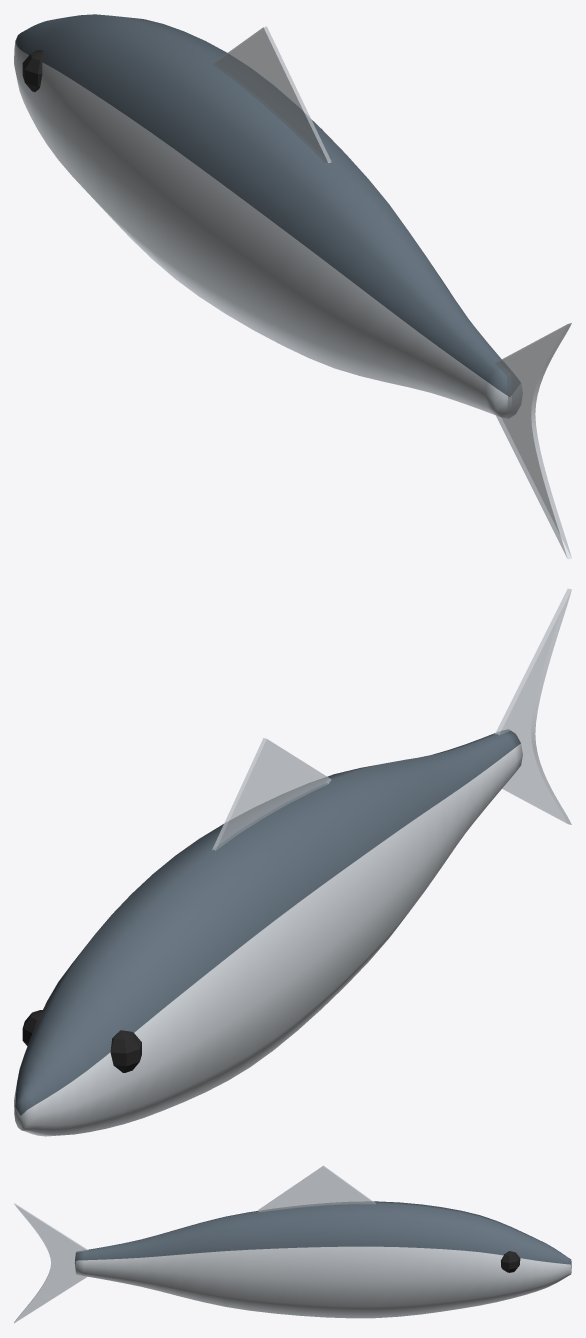
Rendered from fauna_prey_dart.glb.
3 views of the same model, one above another, from view 1: azimuth 30°, elevation 25°; view 2: azimuth 150°, elevation 25°; view 3: azimuth 270°, elevation 25° (orthographic). The views are drawn at different scales.
Visible parts, largest first — view 1: dart; view 2: dart; view 3: dart.
Part boxes in pixels (x1,y1,x2,y2): dart: [14, 14, 571, 559]; dart: [14, 588, 571, 1136]; dart: [14, 1165, 571, 1323].
Size of the model in its own units: 0.0201 by 0.042 by 0.1352.
